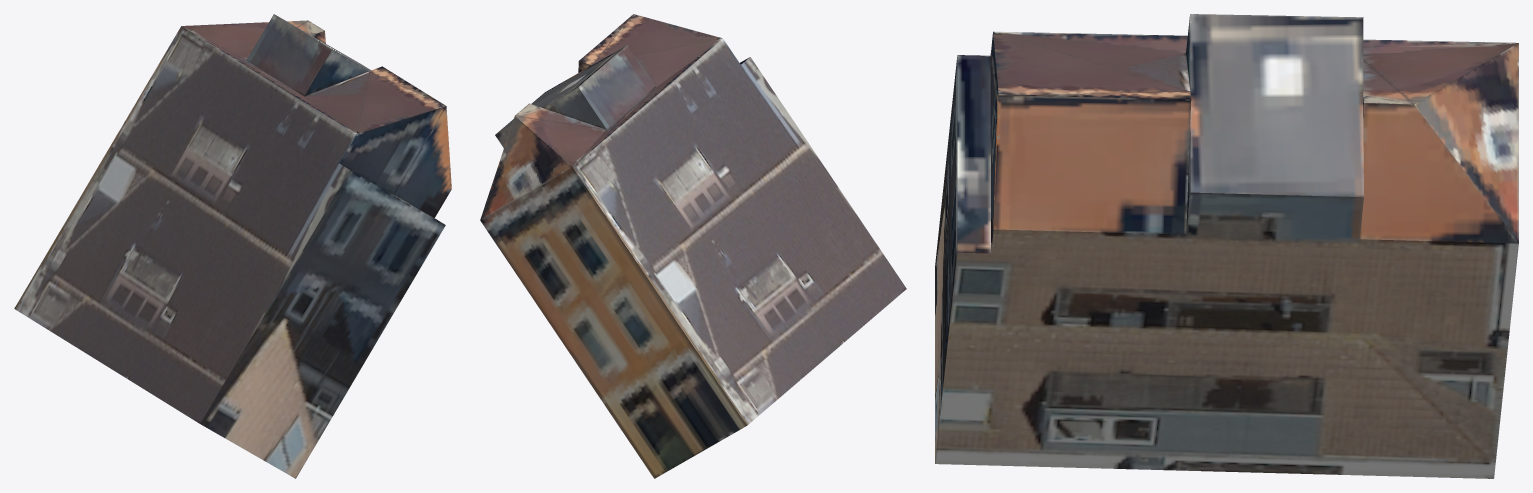
The picture shows the model from 3 angles, left to right: view 1: azimuth 30°, elevation 25°; view 2: azimuth 150°, elevation 25°; view 3: azimuth 270°, elevation 25°; orthographic projection. The views are drawn at different scales.
Parts seen in each view (by area): view 1: BAG_0599100000688717 (×5); view 2: BAG_0599100000688717 (×6); view 3: BAG_0599100000688717 (×5).
Part boxes in pixels (left/top/right/bottom): BAG_0599100000688717 (×5): left=14, top=14, right=451, bottom=478; BAG_0599100000688717 (×6): left=480, top=14, right=906, bottom=478; BAG_0599100000688717 (×5): left=935, top=14, right=1518, bottom=478.
Size of the model in its own units: 12 by 13.2 by 12.46.
Materials: 1 (1 with a texture image).
